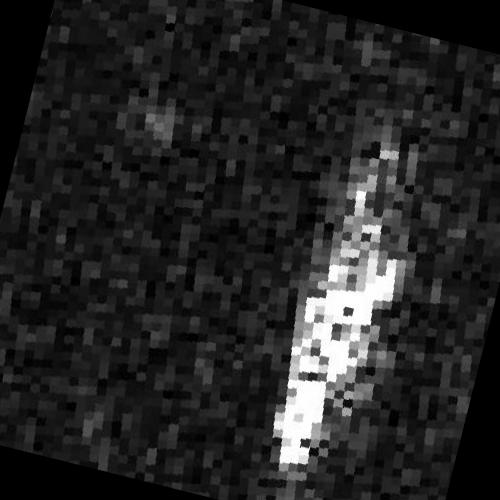ship: (261, 142, 406, 475)
